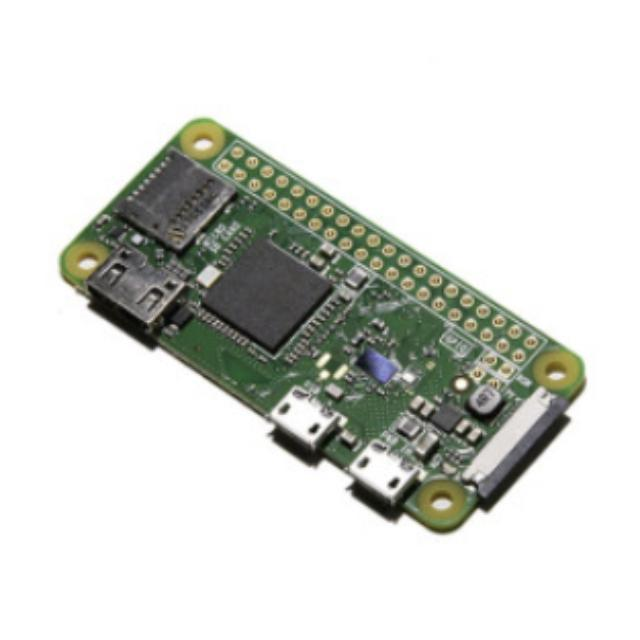Raspberry-Pi-Zero-W: (61, 120, 586, 532)
